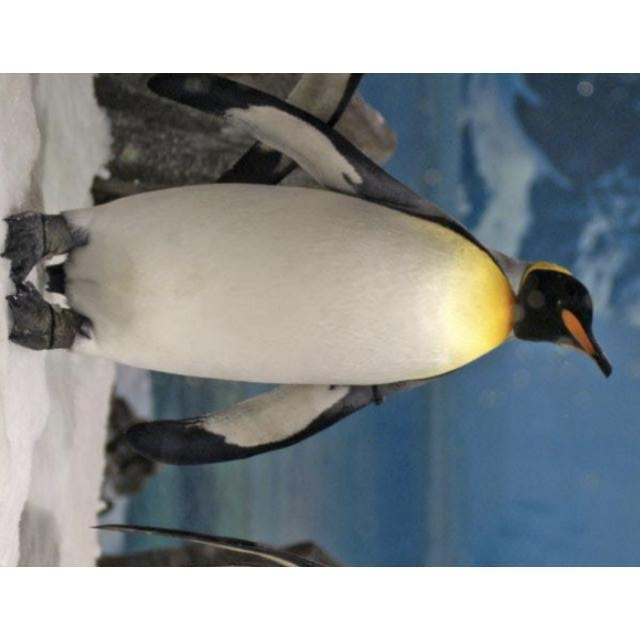penguin: (5, 100, 614, 465)
